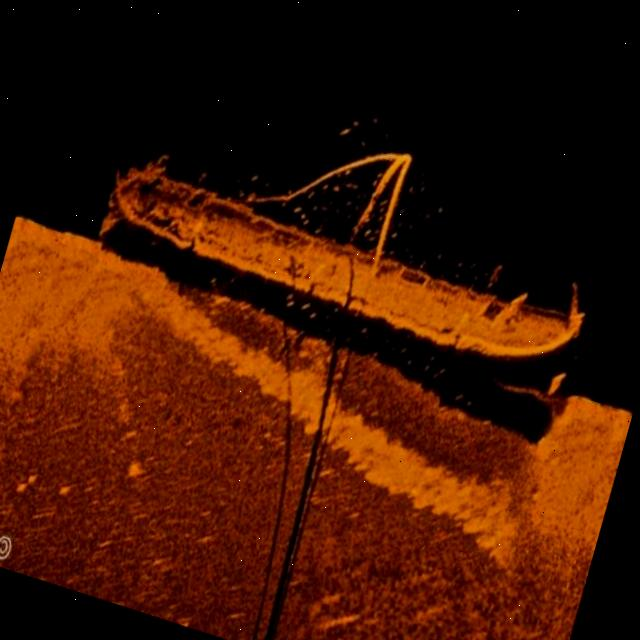shipwreck: (88, 57, 619, 398)
